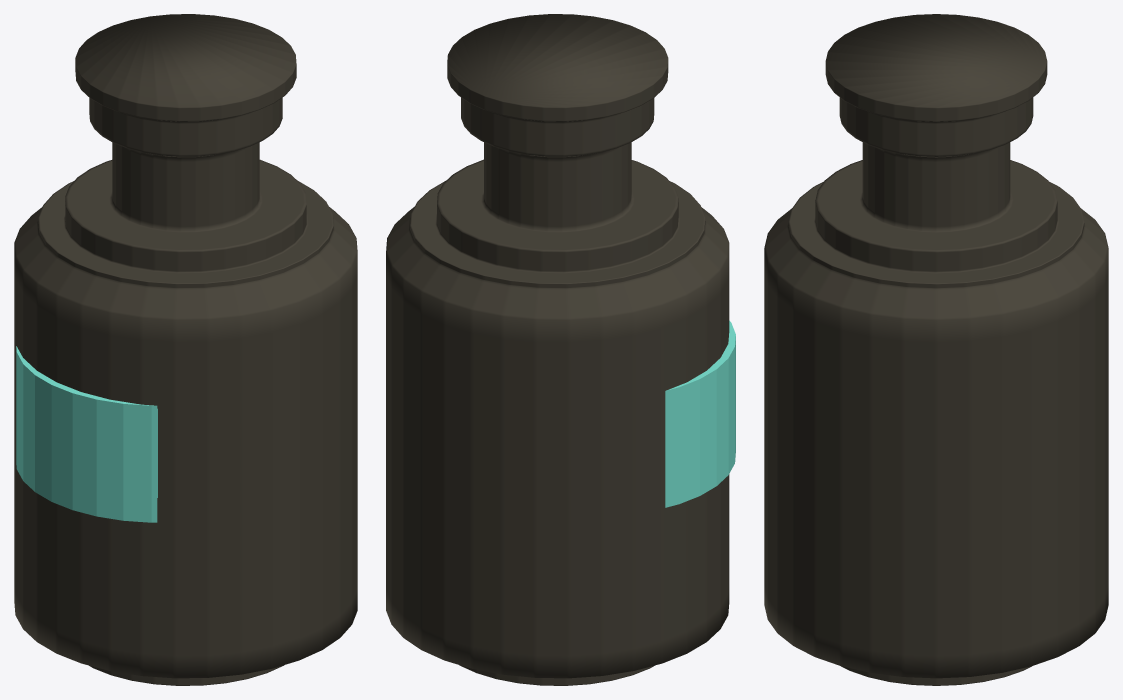
File: Med1.fbx
3 renders of one model, left to right at view 1: azimuth 30°, elevation 25°; view 2: azimuth 150°, elevation 25°; view 3: azimuth 270°, elevation 25°, orthographic.
Visible parts, largest first — view 1: Cylinder, Cylinder.001; view 2: Cylinder, Cylinder.001; view 3: Cylinder.
Boxes of the visible parts, box(x1,y1,x2,y2) form: Cylinder: box(14, 14, 357, 685); Cylinder.001: box(16, 346, 157, 522); Cylinder: box(386, 14, 729, 685); Cylinder.001: box(665, 320, 735, 507); Cylinder: box(764, 14, 1108, 685).
Bounding box in the file's own units: 9.28 × 16.72 × 9.1.
